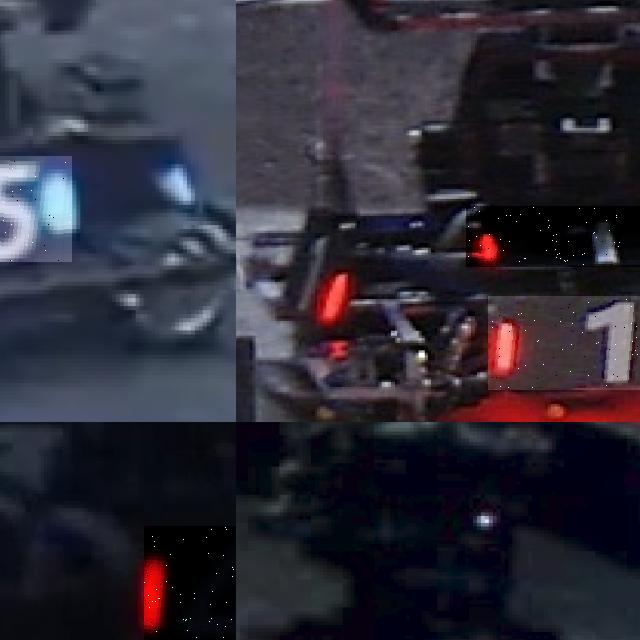B5: (0, 156, 72, 261)
R1: (487, 296, 640, 389), (466, 206, 640, 267), (274, 212, 357, 330)
R4: (144, 526, 236, 640)
